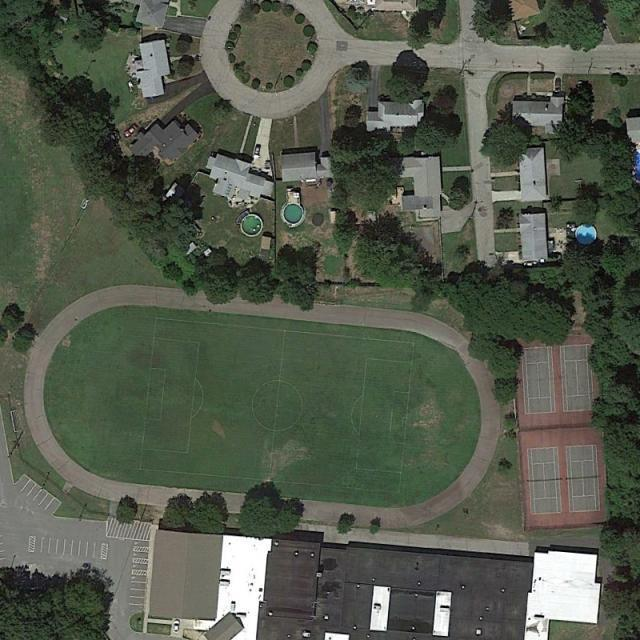vehicle: (124, 121, 138, 135), (253, 142, 261, 158), (174, 618, 180, 634), (555, 78, 561, 93)
